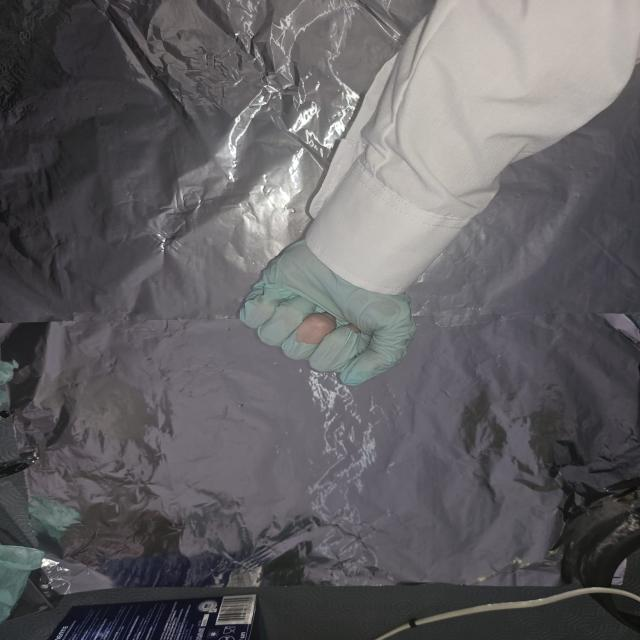gloves_damaged: (232, 241, 418, 390)
